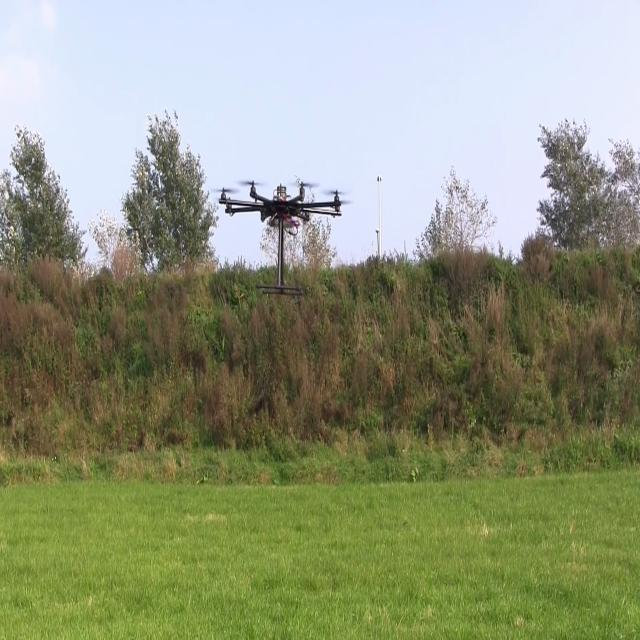drone: (202, 166, 365, 328)
